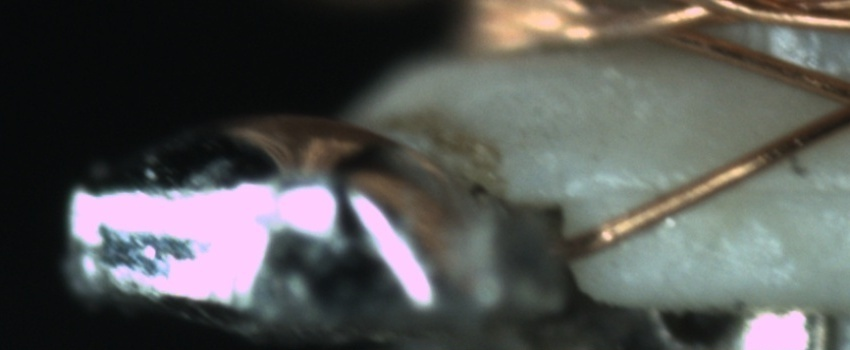DL: (608, 155, 847, 227)
